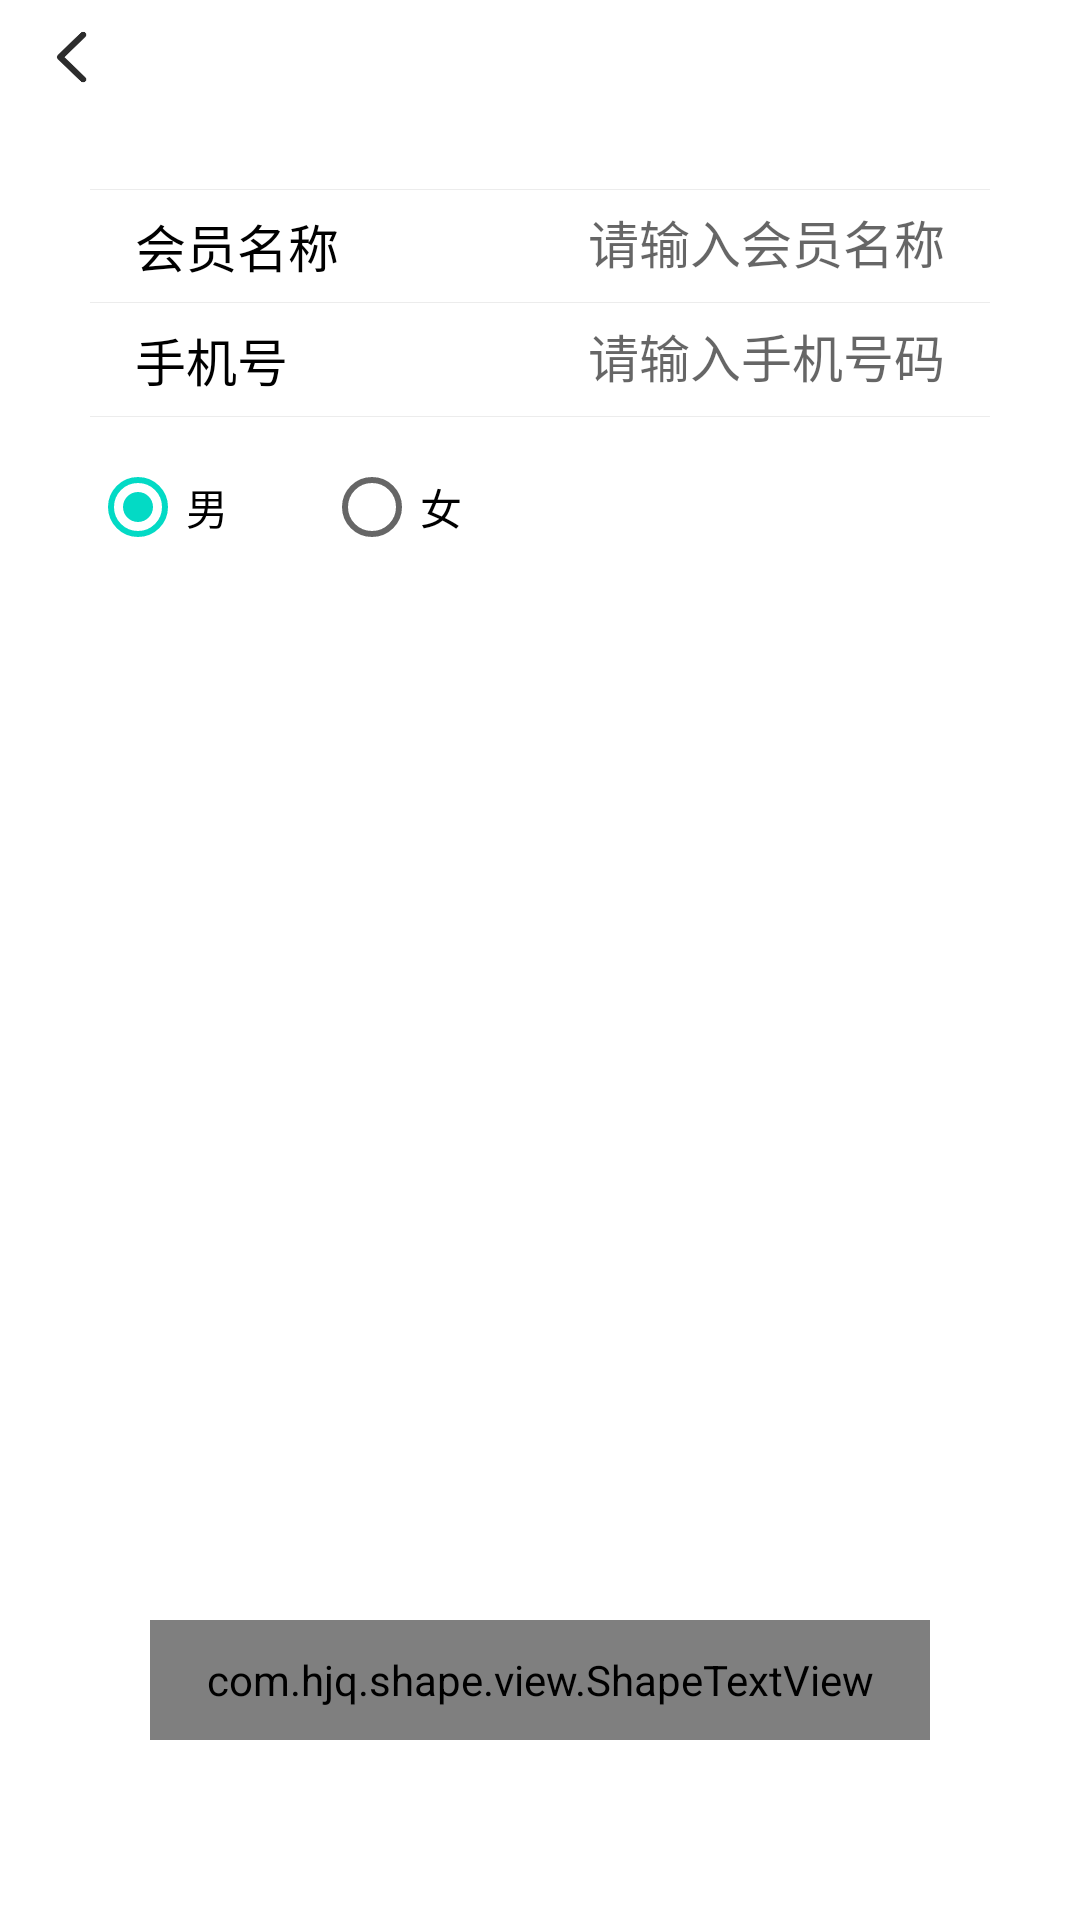

Screen size 1080*1920. Icon name, then its box in pixels as (x1, y1, x2, y2):
title back: (57, 32, 87, 83)
